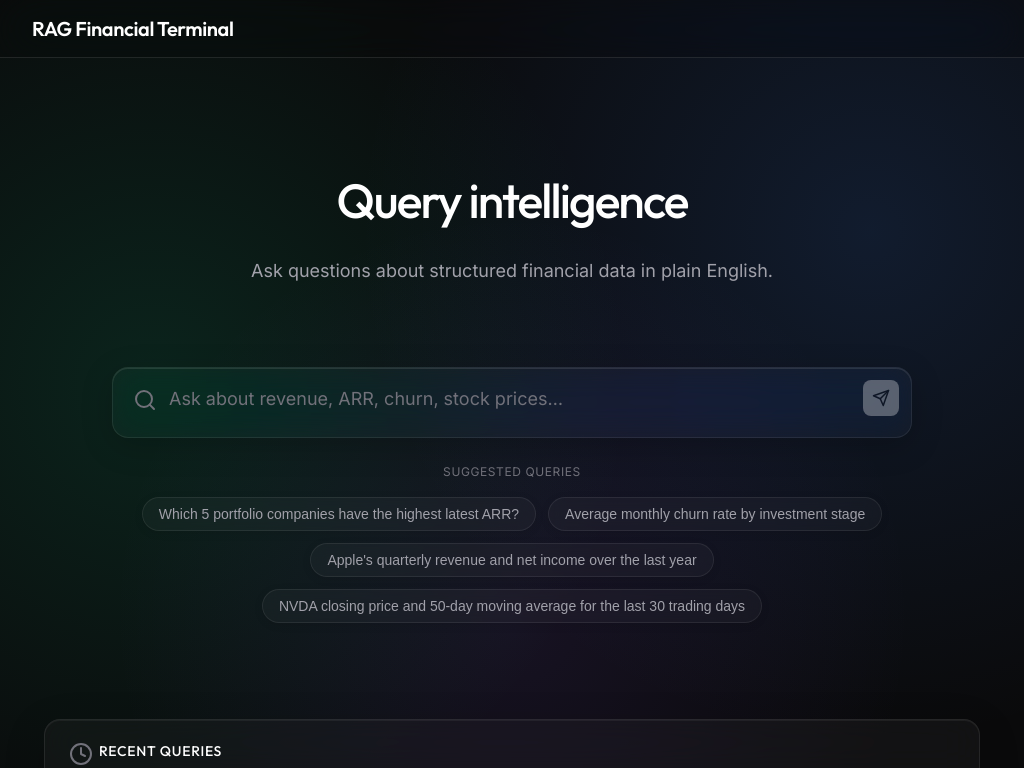
it: App › shows HTTP errors with the request ID
In the text box named "ask a question": (512, 399) [113, 368, 911, 429], type "Anything at all"
Then press Enter
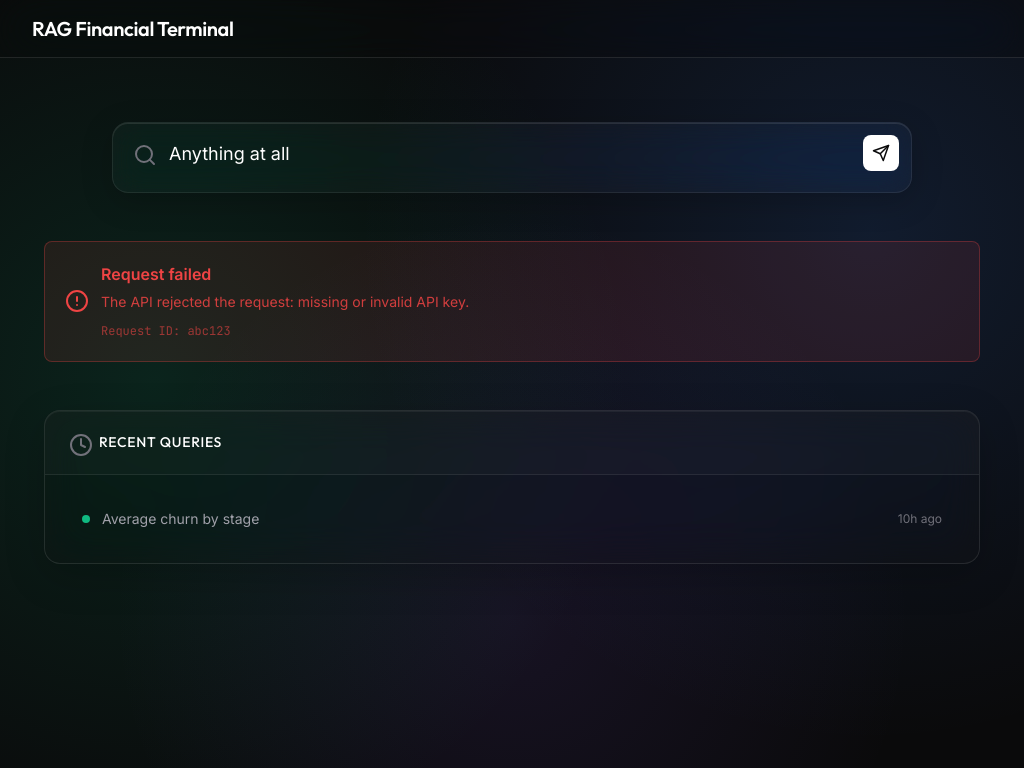
Expected: the message shows "invalid API key", [101, 293, 469, 310]
Expected: the message shows "Request ID: abc123", [44, 241, 980, 362]
